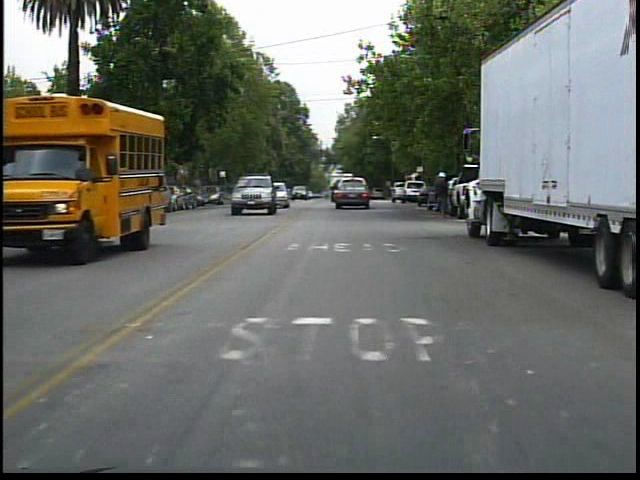person: (430, 170, 455, 221)
